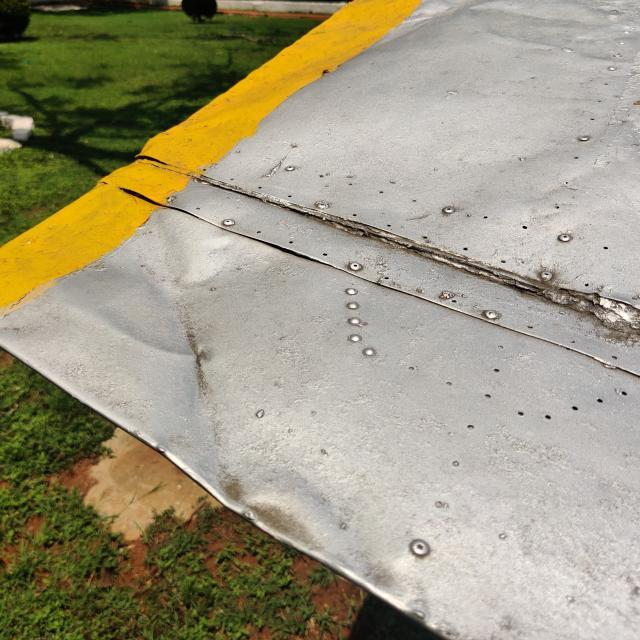dent: (162, 384, 467, 623)
